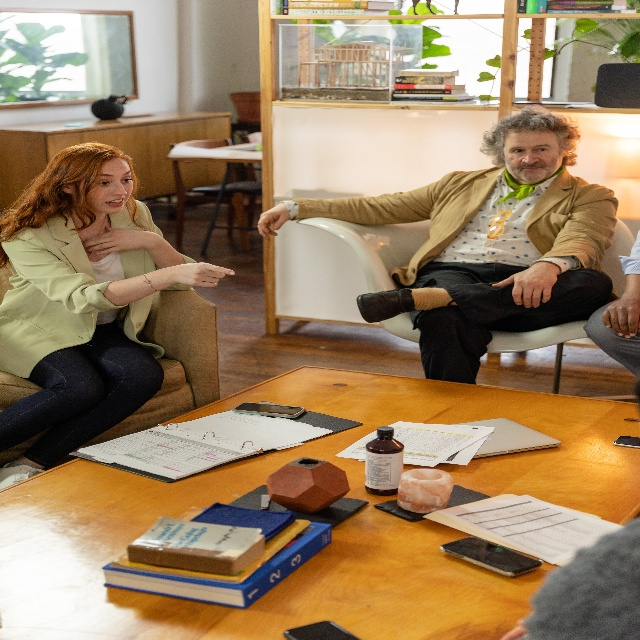Sin_guantes: (491, 259, 558, 308), (83, 224, 153, 256), (602, 295, 640, 339), (176, 261, 235, 288), (257, 201, 290, 238)
